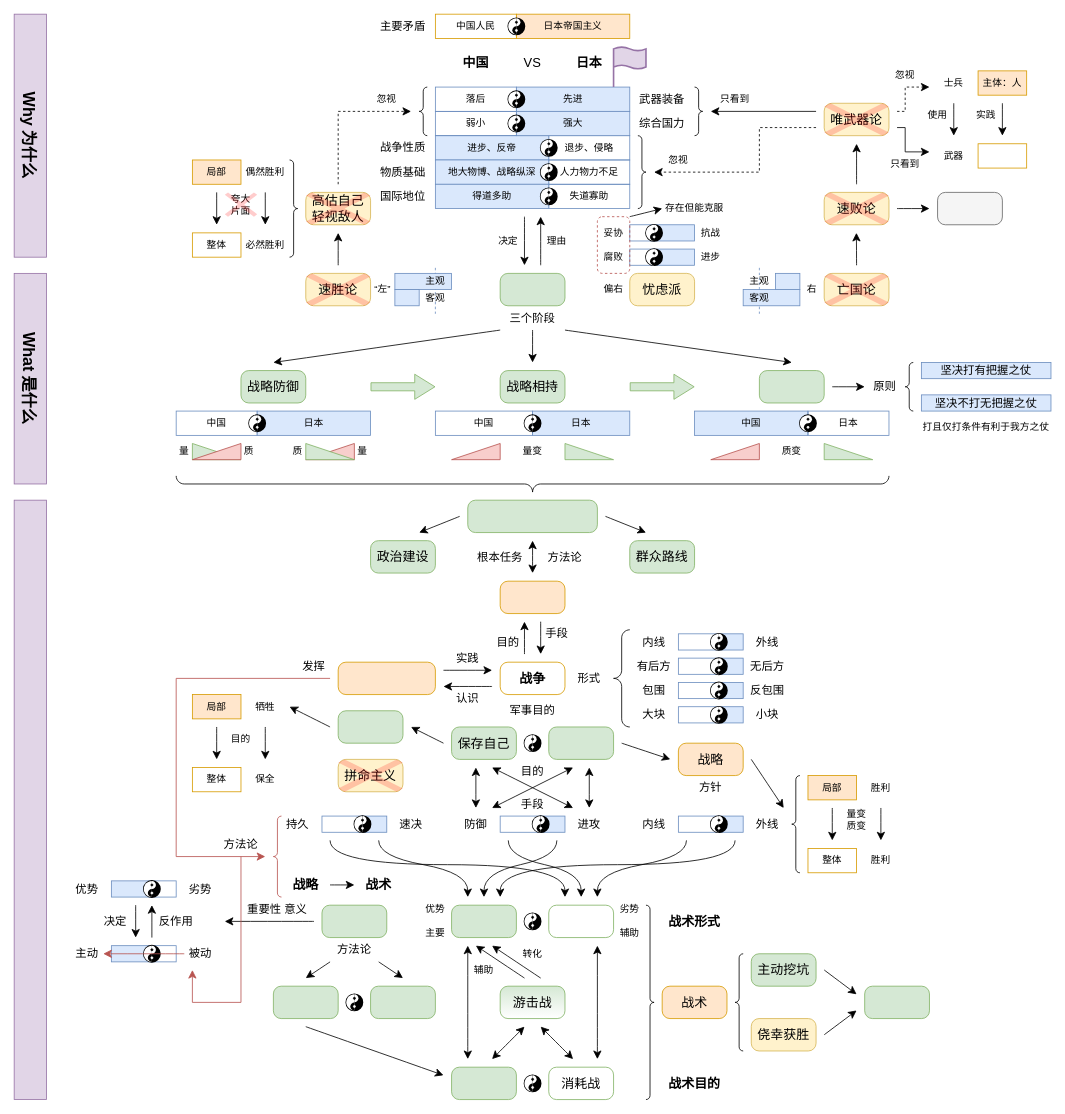
The diagram is 1065 pixels wide and 1114 high, and some of its shapes have lost their labels. Each missing label, with the centre of its shape:
"How 怎么做" goes at point (30, 799).
"不攻自破" goes at point (969, 208).
"主动性" goes at point (354, 921).
"主观能动性" goes at point (386, 678).
"乘敌之隙" goes at point (896, 1002).
"占优" goes at point (629, 66).
"客体：物" goes at point (1002, 155).
"战略反攻" goes at point (791, 386).
"抗日民族统一战线" goes at point (532, 516).
"持久战" goes at point (532, 289).
"政治" goes at point (532, 597).
"歼灭战" goes at point (483, 1083).
"消灭敌人" goes at point (581, 742).
"灵活性" goes at point (305, 1002).
"牺牲？" goes at point (370, 726).
"计划性" goes at point (402, 1002).
"运动战" goes at point (483, 921).
"阵地战" goes at point (581, 921).
